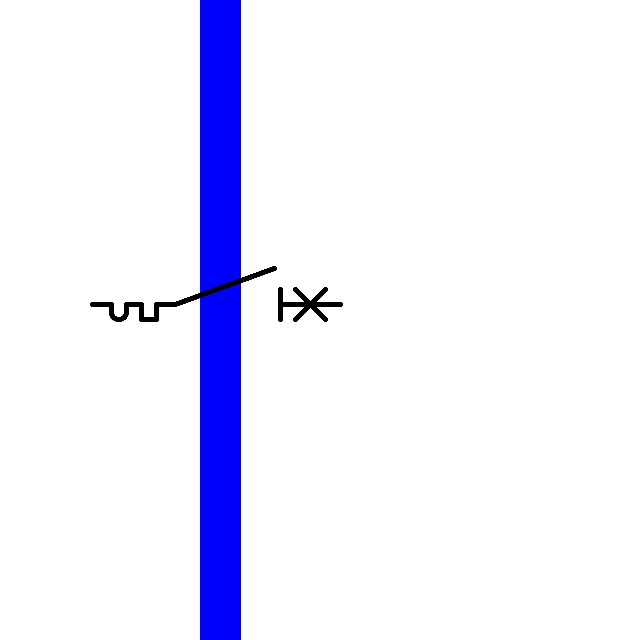interruptor_termomagnetico: (86, 262, 347, 326)
